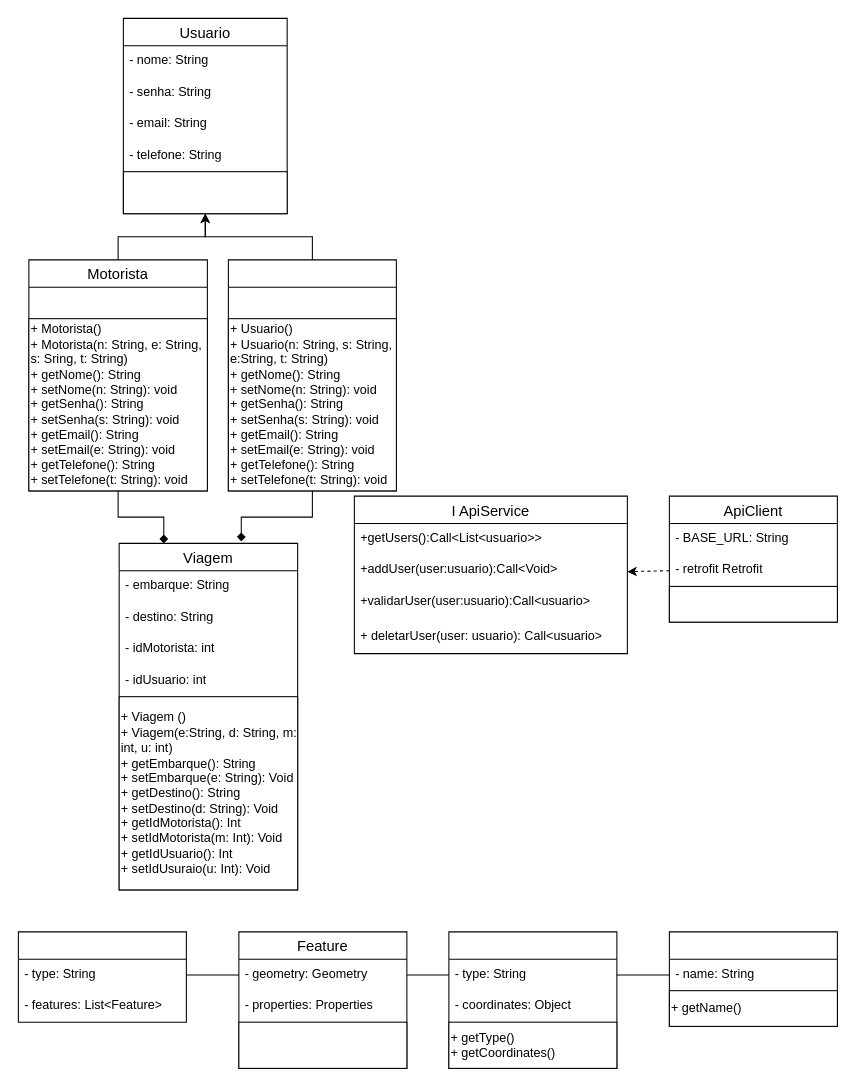
Some shapes in this 856 by 1087 pixel diagram are drawn without their labels. Each missing label, with the box of its shape:
+ getClient(): Retrofit: (668, 585, 837, 622)
+ getGeometry() + getProperties(): (238, 1021, 407, 1068)
Cliente: (227, 259, 396, 491)
GeoJson: (17, 931, 186, 1022)
Geometry: (448, 931, 617, 1068)
Properties: (668, 931, 837, 1026)
